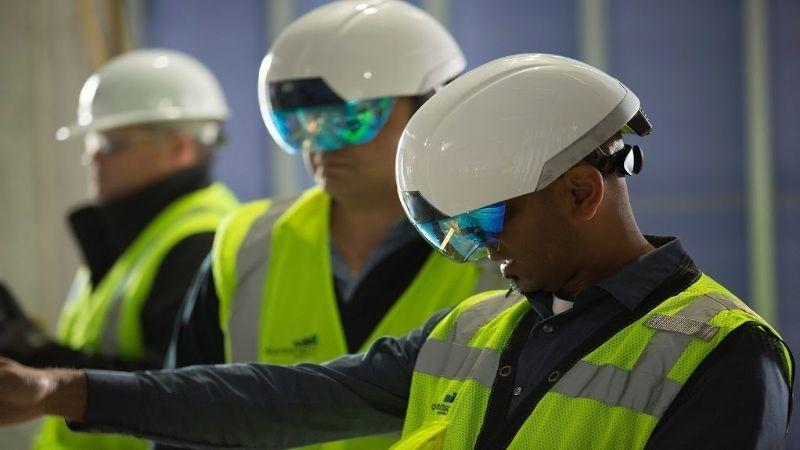helmet: (385, 51, 653, 260), (255, 0, 470, 161), (52, 47, 232, 149)
wear: (213, 192, 471, 450), (418, 302, 796, 450), (46, 203, 238, 450)
